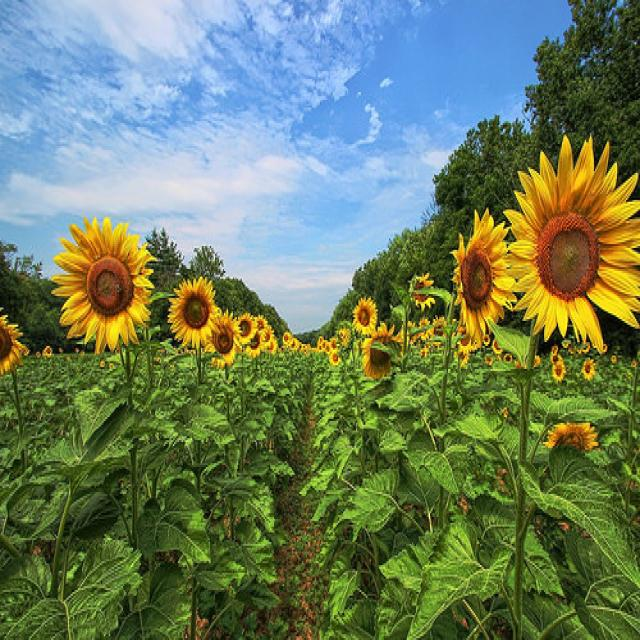sunflower: (502, 134, 640, 358), (50, 210, 155, 354), (448, 206, 516, 350), (164, 273, 221, 348), (360, 319, 400, 383), (540, 418, 602, 456), (203, 311, 242, 369), (0, 309, 29, 378), (350, 295, 378, 339), (406, 270, 436, 310), (234, 305, 259, 345), (242, 318, 262, 366), (430, 315, 448, 348), (414, 313, 432, 344), (580, 358, 598, 382), (453, 342, 469, 369), (256, 322, 274, 345), (552, 358, 567, 384), (262, 334, 278, 354), (328, 349, 342, 370), (40, 343, 53, 362), (328, 335, 339, 353), (580, 340, 592, 356), (481, 332, 492, 348), (550, 343, 560, 360), (484, 350, 494, 367), (289, 338, 299, 354), (600, 340, 611, 354), (561, 338, 571, 352), (282, 332, 292, 345), (502, 353, 512, 366), (632, 358, 639, 372), (316, 335, 325, 345), (315, 344, 324, 354), (610, 354, 618, 365), (300, 343, 307, 351)
